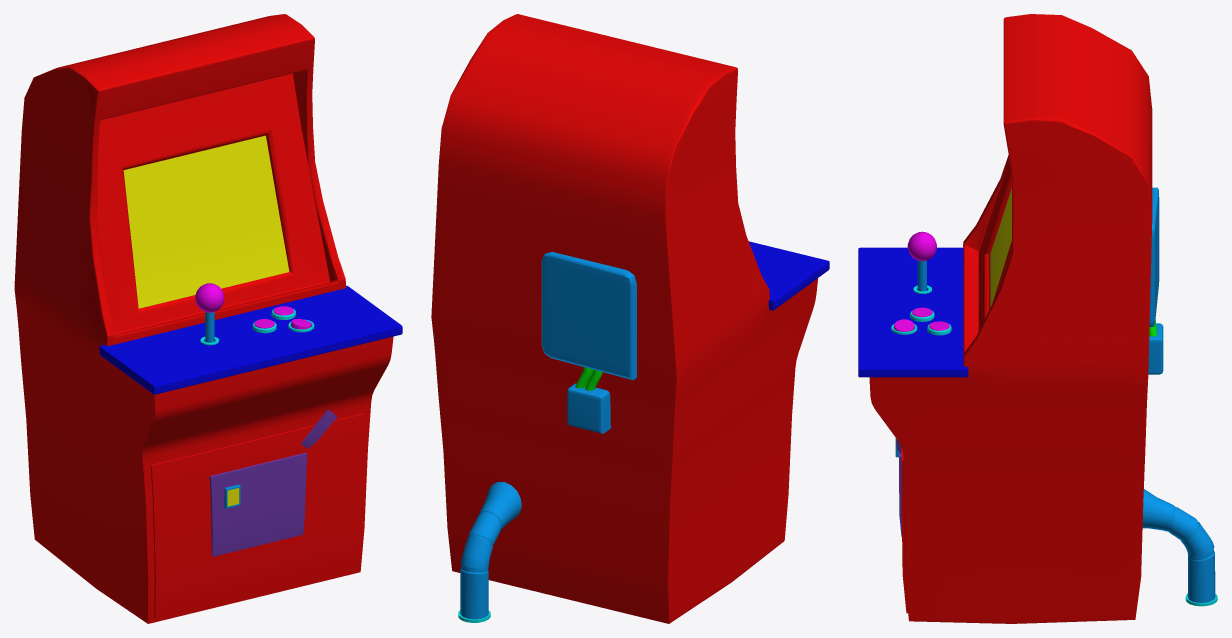
The model's file is ArcadeCabinet2.fbx.
3 renders of one model, left to right at view 1: azimuth 30°, elevation 25°; view 2: azimuth 150°, elevation 25°; view 3: azimuth 270°, elevation 25°, orthographic. The views are drawn at different scales.
Visible parts, largest first — view 1: Cabinet, Front_Hole_Door, GameBar, CoinDoor, JoystickBall; view 2: Cabinet, pCube3, BackPipe, GameBar, pCube2; view 3: Cabinet, GameBar, Side_Hole_Door, BackPipe, pCube3, JoystickBall, pCube2.
Boxes of the visible parts, x1,y1,x2,y2 form: Cabinet: (14,14,393,623); Front_Hole_Door: (150,413,364,618); GameBar: (99,285,402,394); CoinDoor: (209,452,307,556); JoystickBall: (195,283,224,312); Cabinet: (431,14,818,623); pCube3: (541,252,636,379); BackPipe: (460,482,521,619); GameBar: (748,241,829,310); pCube2: (567,383,610,433); Cabinet: (869,14,1152,623); GameBar: (858,247,968,377); Side_Hole_Door: (1022,254,1129,341); BackPipe: (1142,489,1215,602); pCube3: (1149,187,1159,326); JoystickBall: (907,231,936,261); pCube2: (1148,323,1163,374).
Size of the model in its own units: 350 by 684 by 438.
